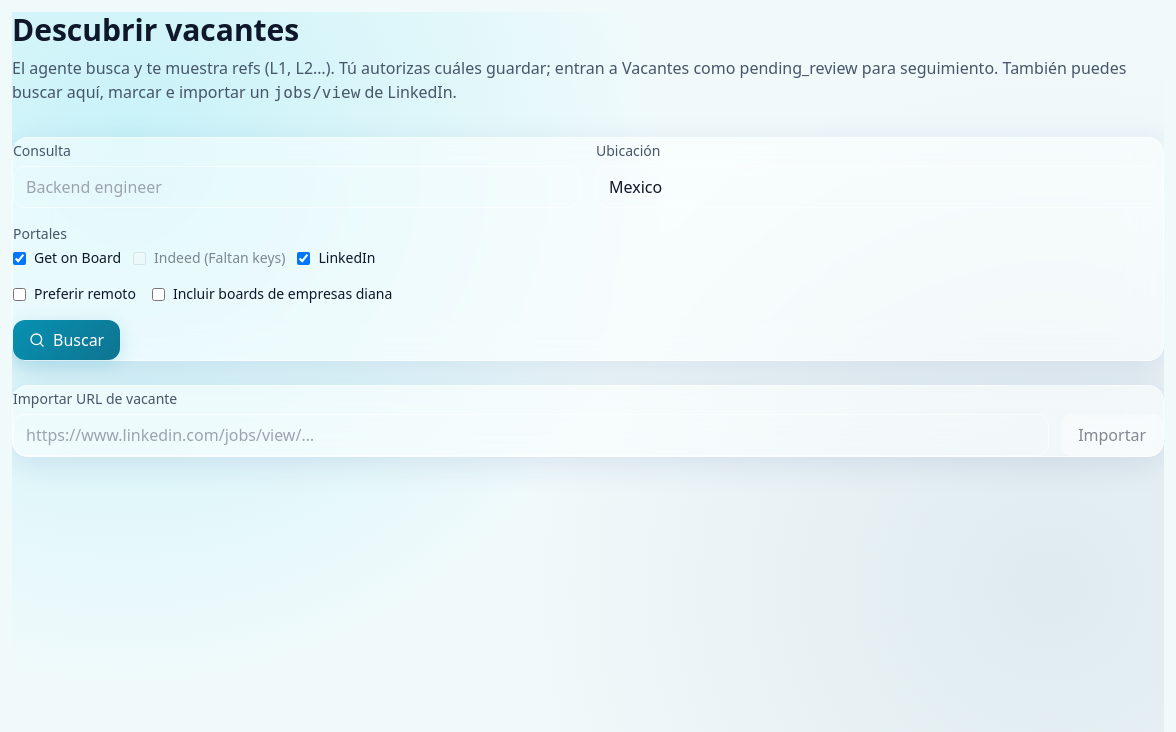
Test: JobDiscoveryPage › saves a selected job listing
Check: the text "Get on Board" is shown, box [13, 248, 121, 268]
Click the button "Buscar" at [67, 340], box [13, 320, 120, 360]
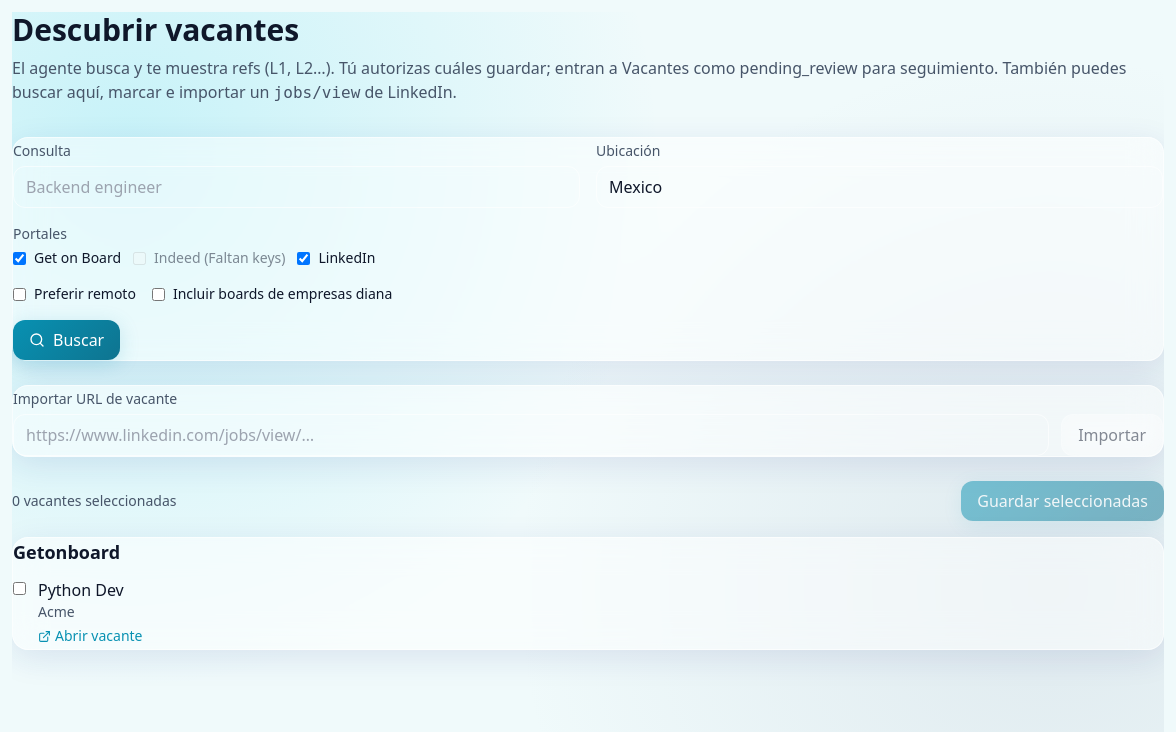
Check: the text "Python Dev" is shown, box [38, 579, 124, 601]
Click the 6th checkbox at [20, 588], box [13, 582, 26, 595]
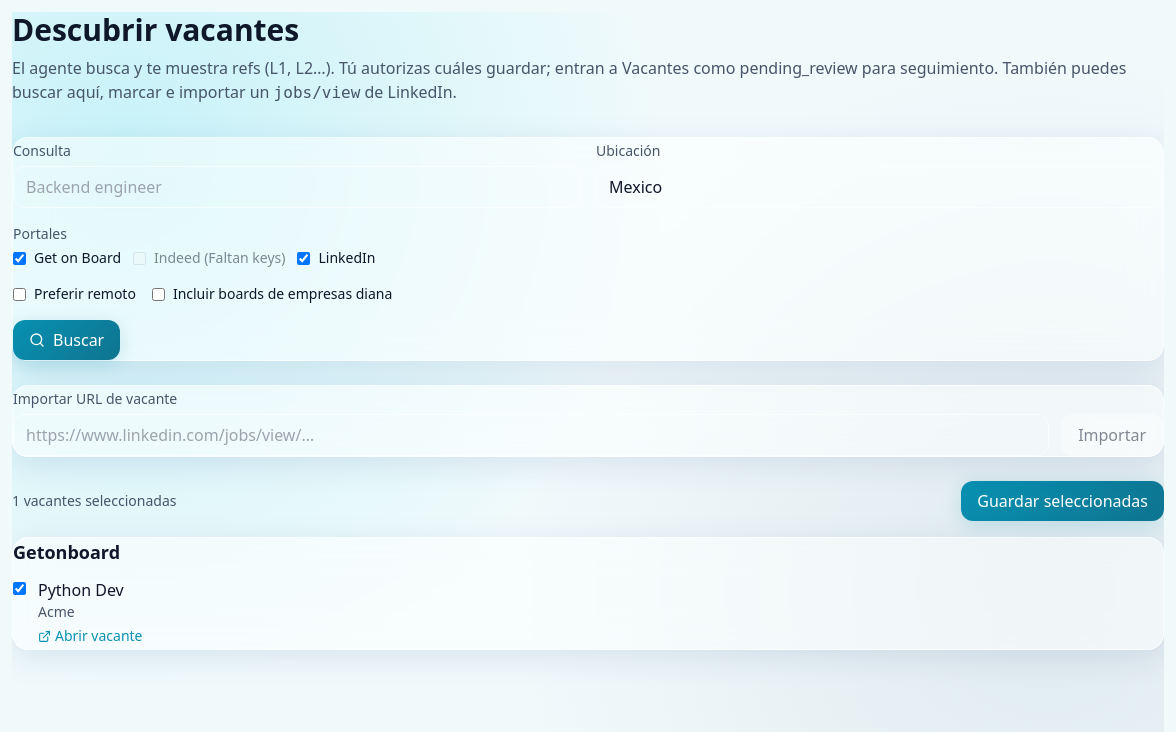
Click the button "Guardar seleccionadas" at [1063, 501], box [961, 481, 1164, 521]
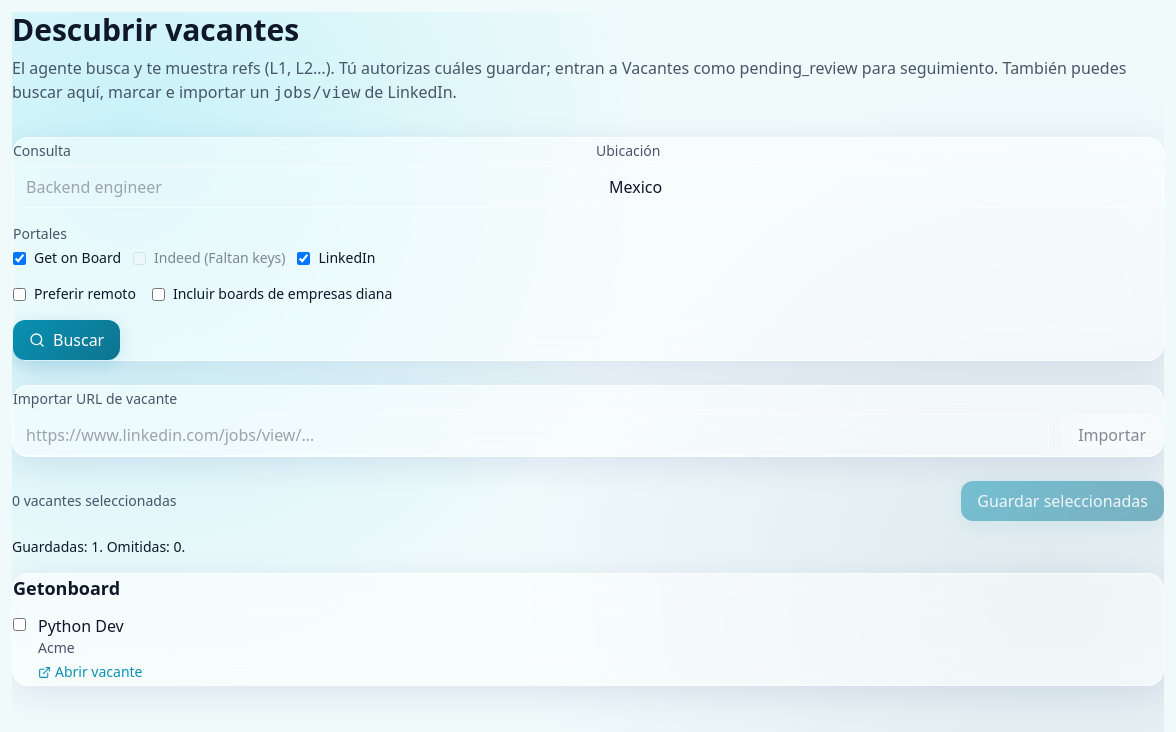
Check: the text "Guardadas: 1. Omitidas: 0." is shown, box [12, 537, 185, 556]
